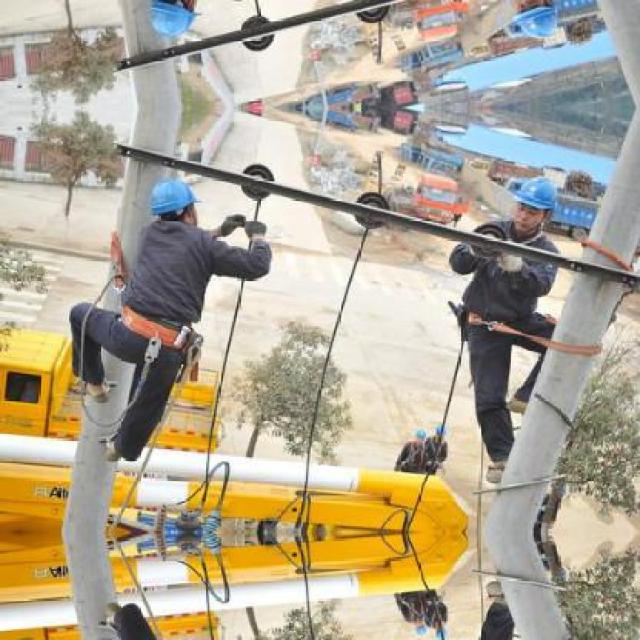helmet: (508, 170, 560, 233), (148, 174, 200, 226), (508, 0, 562, 43), (148, 0, 202, 40)
